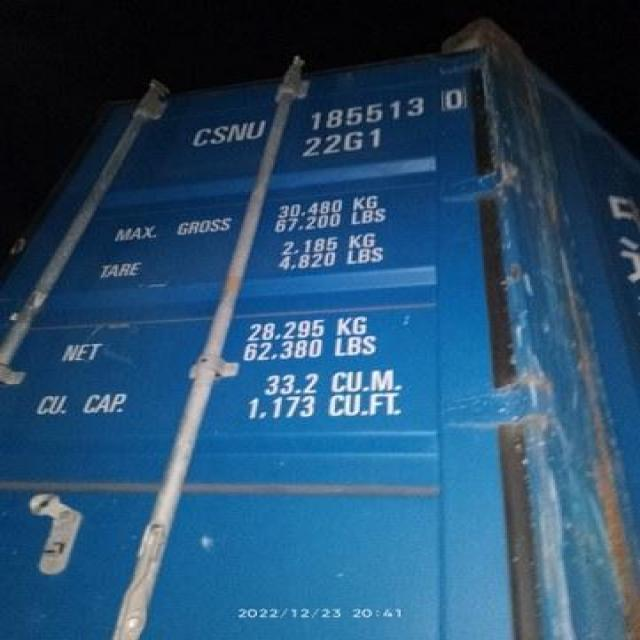container_number_h: (175, 80, 491, 177)
